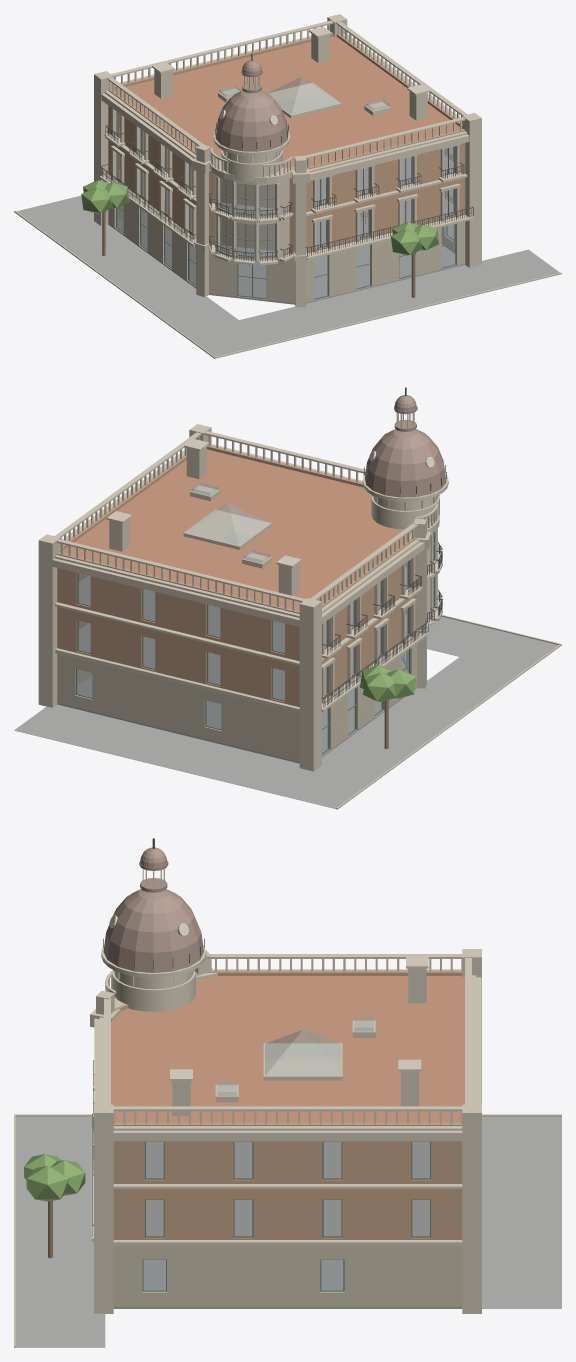
The model's file is clay-chamfer-corner-dome-block-clay-v005.glb.
The picture shows the model from 3 angles, top to bottom: view 1: azimuth 30°, elevation 25°; view 2: azimuth 150°, elevation 25°; view 3: azimuth 270°, elevation 25°; orthographic projection. The views are drawn at different scales.
Parts seen in each view (by area): view 1: CLAY_STONE, CLAY_FOUNDATION, CLAY_MEMBRANE, CLAY_WALL, CLAY_GLASS, CLAY_RUSTIC, CLAY_HARDWARE, CLAY_COPPER, CLAY_PALE, CLAY_TRIM, CLAY_PLANTING, CLAY_FLOOR (+1 smaller); view 2: CLAY_STONE, CLAY_FOUNDATION, CLAY_MEMBRANE, CLAY_WALL, CLAY_RUSTIC, CLAY_GLASS, CLAY_COPPER, CLAY_PALE, CLAY_FLOOR, CLAY_HARDWARE, CLAY_TRIM, CLAY_PLANTING; view 3: CLAY_MEMBRANE, CLAY_STONE, CLAY_FOUNDATION, CLAY_WALL, CLAY_RUSTIC, CLAY_GLASS, CLAY_COPPER, CLAY_FLOOR, CLAY_PALE, CLAY_PLANTING, CLAY_TRIM.
Boxes of the visible parts, x1=… form: CLAY_STONE: x1=14, y1=14, x2=561, y2=358; CLAY_FOUNDATION: x1=16, y1=195, x2=561, y2=358; CLAY_MEMBRANE: x1=114, y1=36, x2=459, y2=167; CLAY_WALL: x1=108, y1=33, x2=465, y2=253; CLAY_GLASS: x1=117, y1=77, x2=455, y2=298; CLAY_RUSTIC: x1=108, y1=200, x2=465, y2=302; CLAY_HARDWARE: x1=99, y1=53, x2=473, y2=261; CLAY_COPPER: x1=215, y1=60, x2=288, y2=151; CLAY_PALE: x1=109, y1=24, x2=462, y2=177; CLAY_TRIM: x1=116, y1=112, x2=456, y2=299; CLAY_PLANTING: x1=81, y1=180, x2=439, y2=255; CLAY_FLOOR: x1=119, y1=128, x2=453, y2=256; CLAY_STONE: x1=38, y1=424, x2=561, y2=809; CLAY_FOUNDATION: x1=14, y1=616, x2=558, y2=808; CLAY_MEMBRANE: x1=60, y1=449, x2=411, y2=610; CLAY_WALL: x1=57, y1=445, x2=416, y2=707; CLAY_RUSTIC: x1=57, y1=644, x2=416, y2=761; CLAY_GLASS: x1=77, y1=452, x2=433, y2=752; CLAY_COPPER: x1=365, y1=395, x2=446, y2=497; CLAY_PALE: x1=60, y1=412, x2=439, y2=610; CLAY_FLOOR: x1=79, y1=567, x2=406, y2=699; CLAY_HARDWARE: x1=321, y1=387, x2=446, y2=707; CLAY_TRIM: x1=75, y1=532, x2=434, y2=754; CLAY_PLANTING: x1=360, y1=665, x2=416, y2=701; CLAY_MEMBRANE: x1=111, y1=976, x2=464, y2=1122; CLAY_STONE: x1=14, y1=945, x2=561, y2=1347; CLAY_FOUNDATION: x1=14, y1=1116, x2=561, y2=1347; CLAY_WALL: x1=113, y1=970, x2=462, y2=1239; CLAY_RUSTIC: x1=113, y1=1246, x2=462, y2=1306; CLAY_GLASS: x1=110, y1=917, x2=429, y2=1290; CLAY_COPPER: x1=103, y1=847, x2=203, y2=972; CLAY_FLOOR: x1=146, y1=1142, x2=429, y2=1235; CLAY_PALE: x1=105, y1=868, x2=462, y2=1124; CLAY_PLANTING: x1=24, y1=1154, x2=85, y2=1201; CLAY_TRIM: x1=142, y1=1142, x2=430, y2=1291.
Size of the model in its own units: 36 by 24.38 by 36.
